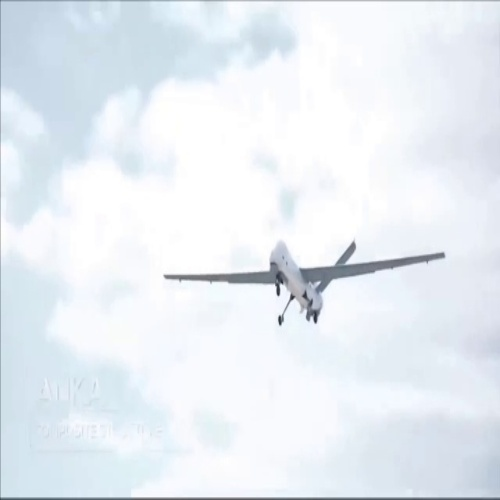uav: (157, 239, 450, 328)
